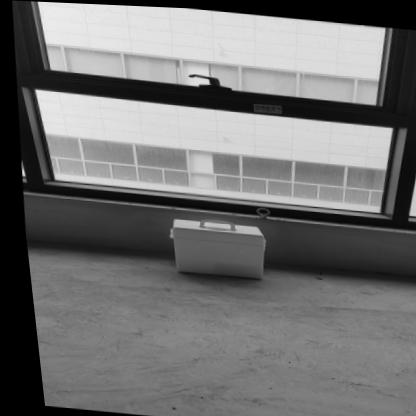DDL: (160, 211, 262, 277)
